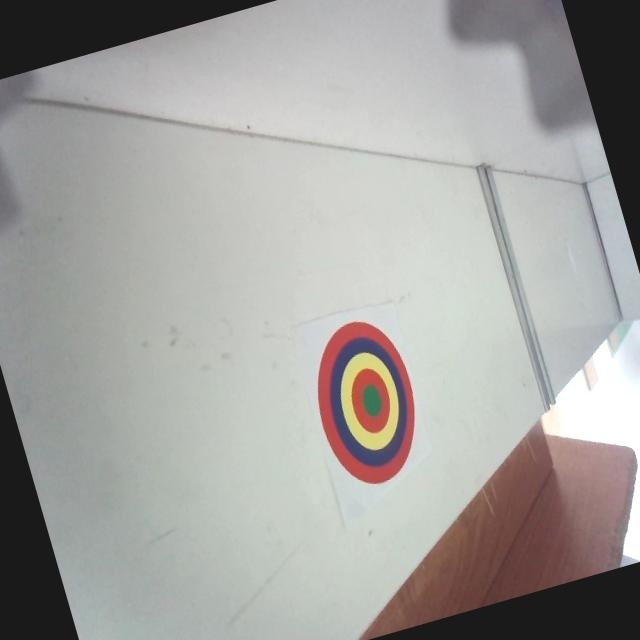cogn: (297, 310, 436, 496)
